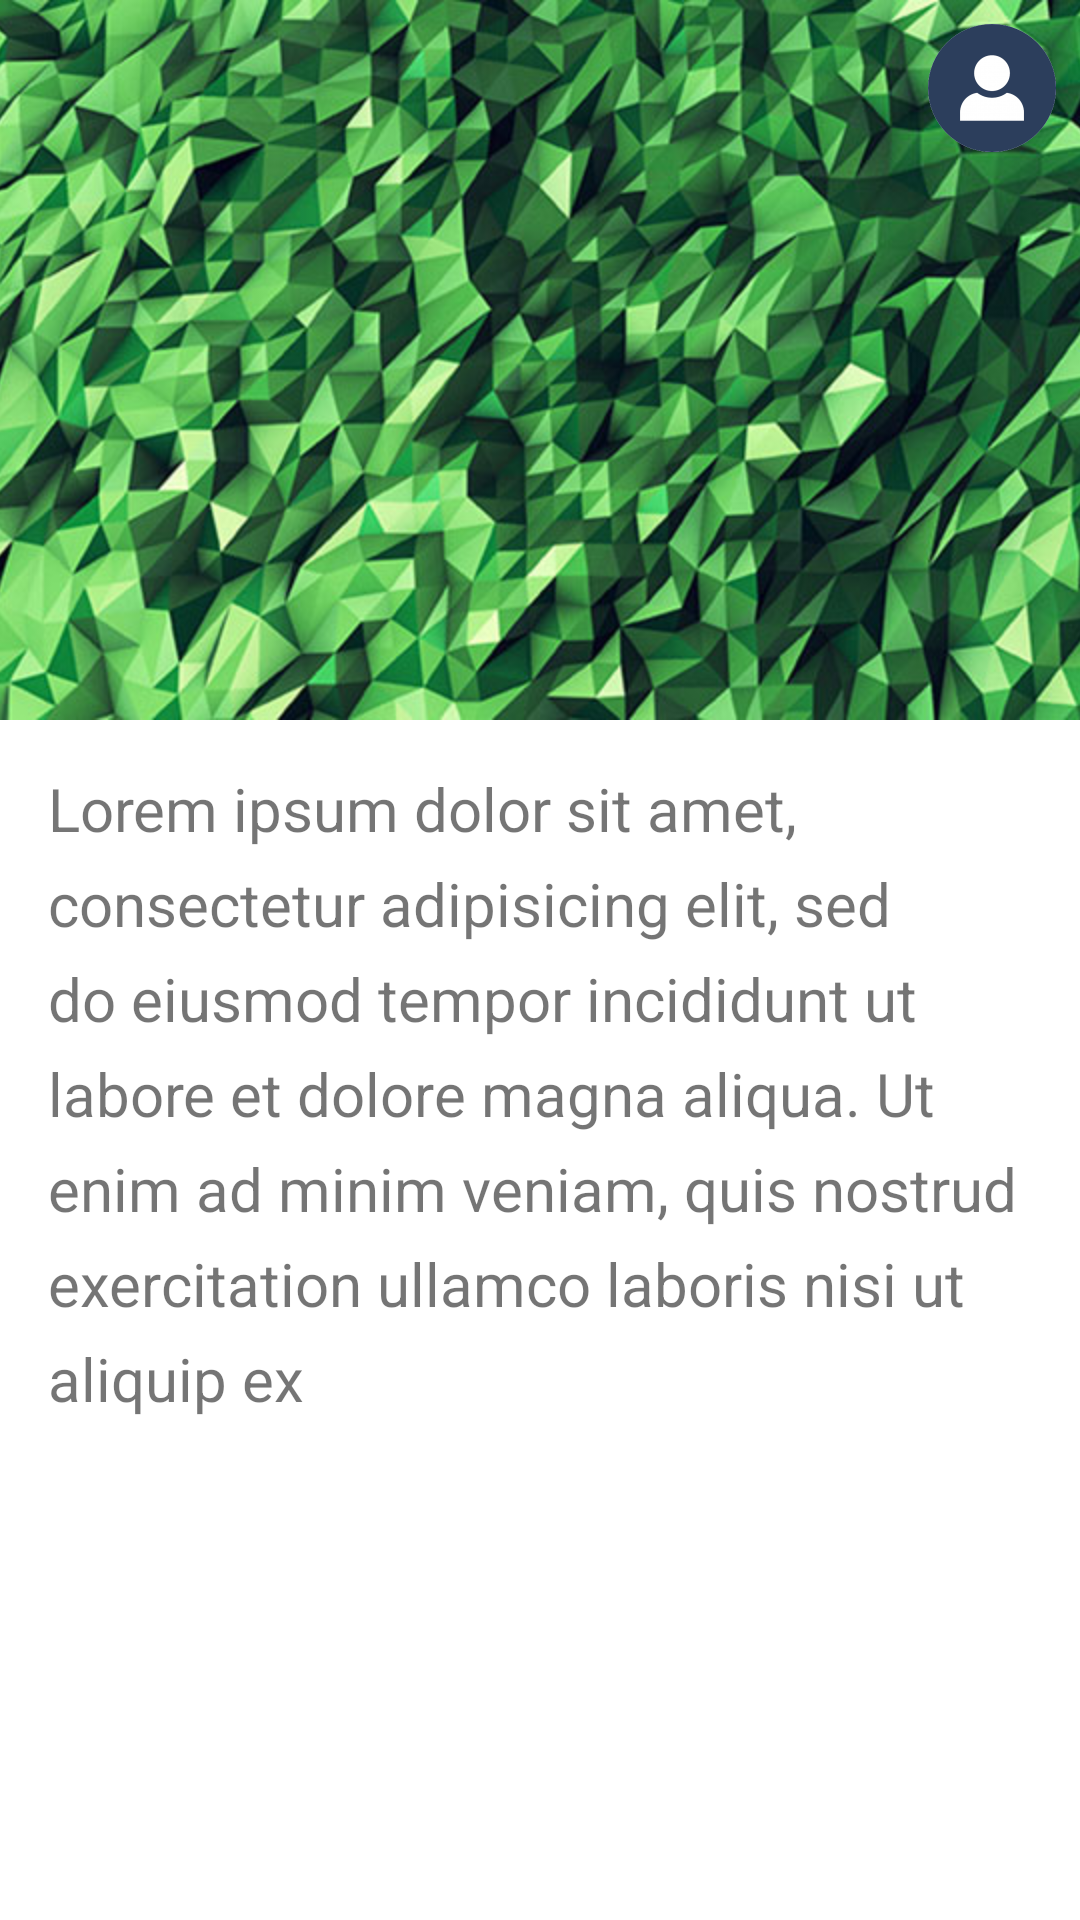

Icons on this 1080 × 1920 Android screen, each with the point to tap as (x=x, y=y):
user: (x=992, y=88)
